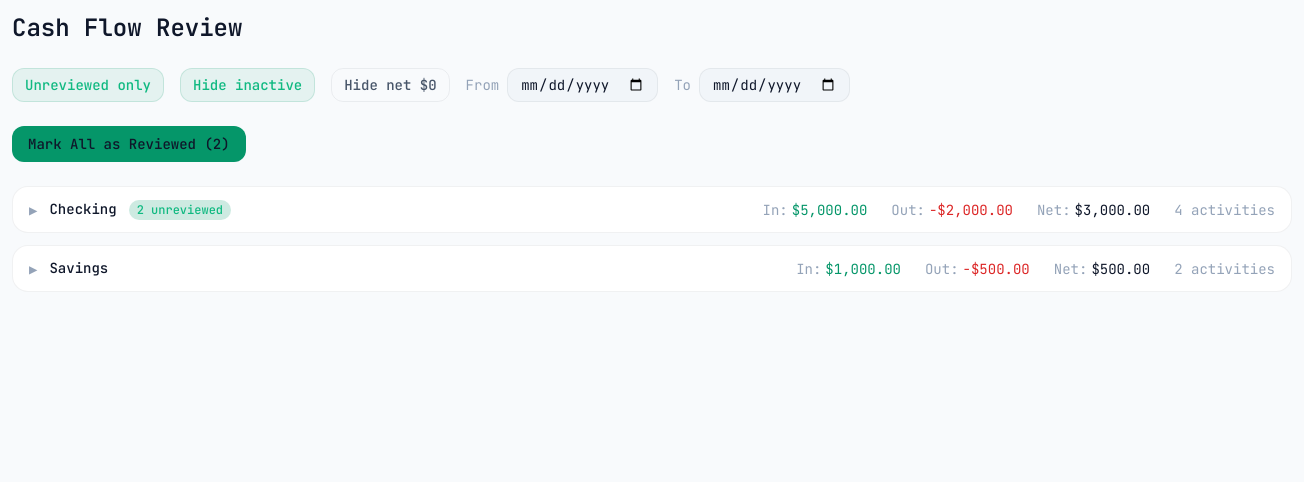
Test: CashFlowReviewPage › expanding an account row fetches and shows activities
The image size is (1304, 482).
Click the button with test id "account-row-acc-1" at (83, 209), box [13,187,1291,232]
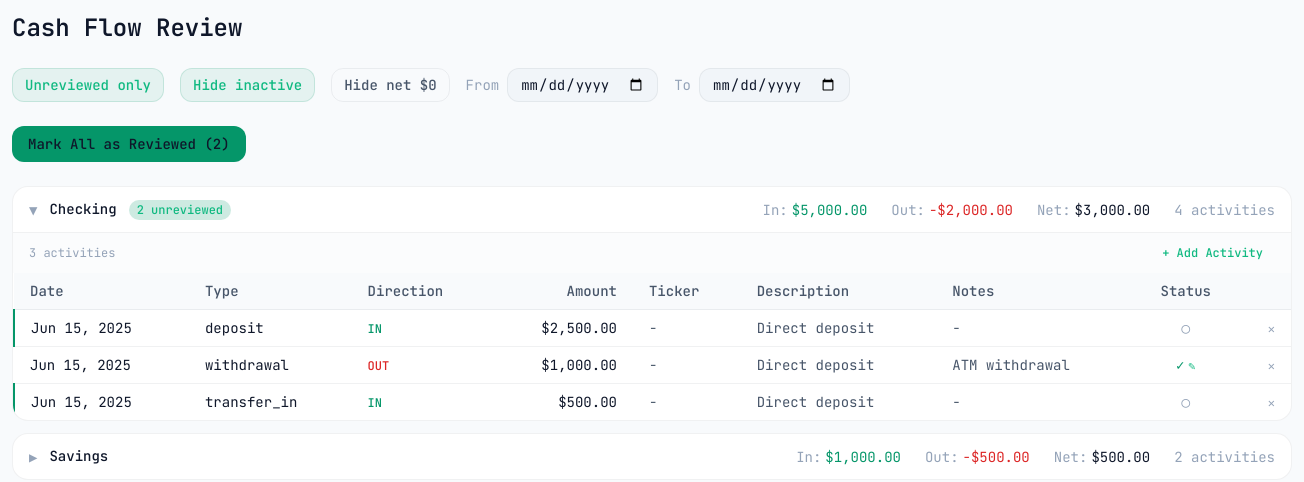
Now the row with test id "activity-row-act-1" is shown, box [14,310,1291,346]
Now the row with test id "activity-row-act-2" is shown, box [14,346,1291,384]
